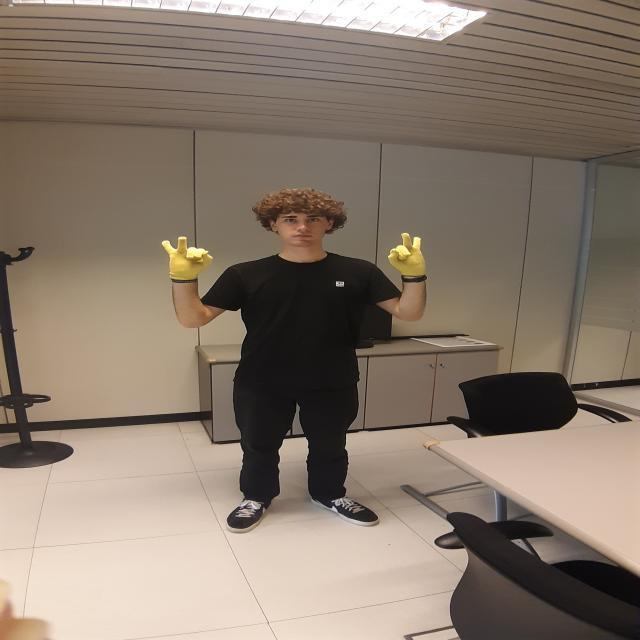gloved_hand: (157, 235, 214, 282), (382, 233, 432, 283)
